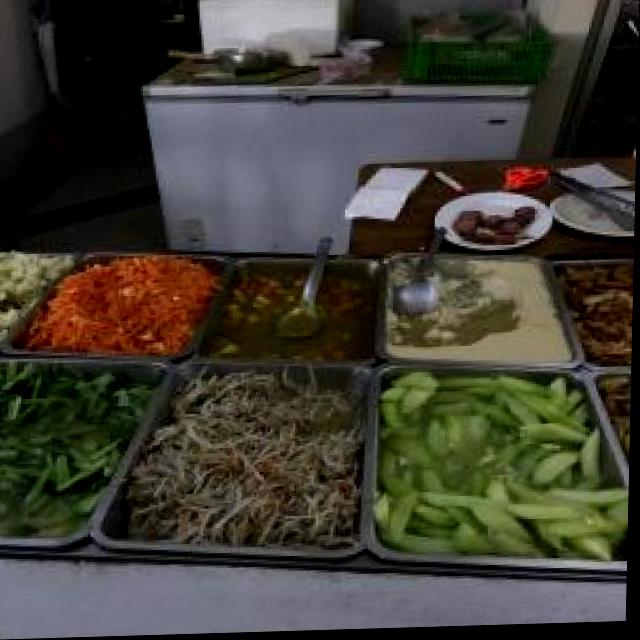carrot_eggs: (34, 258, 200, 352)
chinese_sausage: (455, 207, 539, 249)
curry: (234, 274, 373, 362)
mung_bean_sprouts: (170, 376, 363, 546)
